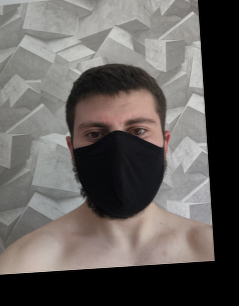with_mask: (73, 108, 165, 219)
